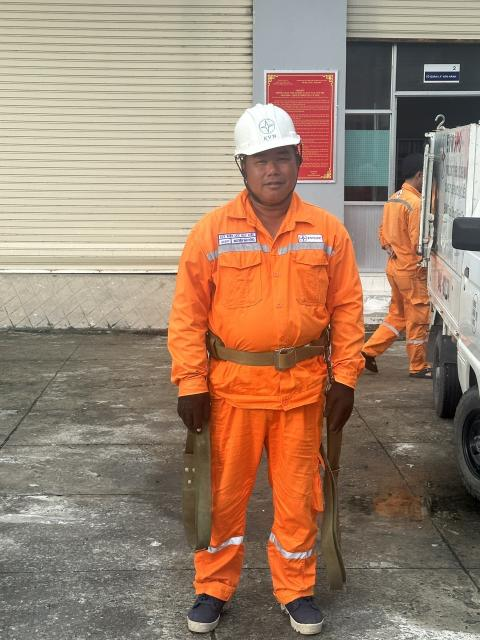gloves: (166, 380, 224, 436), (318, 374, 367, 438)
harness: (195, 330, 340, 374)
helmet: (221, 90, 319, 172)
shoes: (266, 585, 332, 635), (173, 582, 234, 633), (354, 341, 389, 377), (399, 361, 443, 381)
